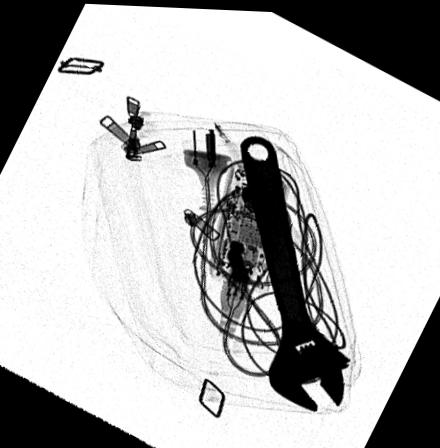Wrench: (239, 131, 350, 408)
